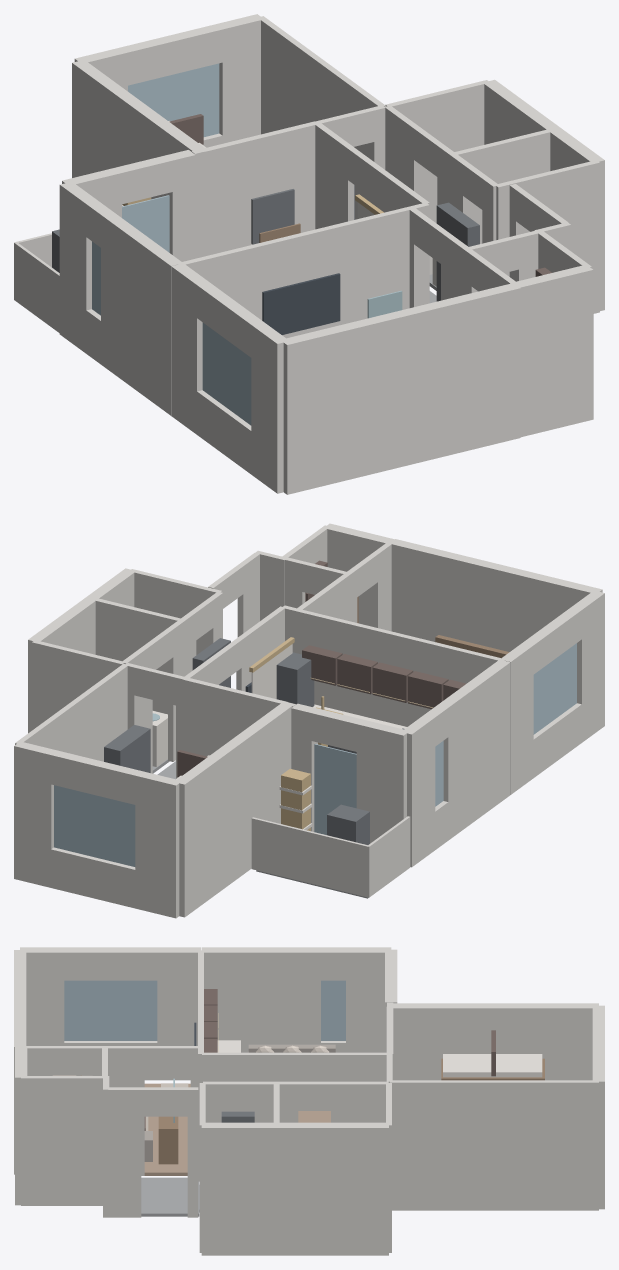
The model's file is kvartira-warm-school-daily.glb.
3 renders of one model, top to bottom at view 1: azimuth 30°, elevation 25°; view 2: azimuth 150°, elevation 25°; view 3: azimuth 270°, elevation 25°, orthographic. The views are drawn at different scales.
Visible parts, largest first — view 1: wall_w_l_s_166_612_0.0, wall_w_dividing_168_644_0.0, wall_w_closet_s_612_752_0.0, wall_w_k_w_559_791_0.0, wall_w_top_s_426_660_0.0, wall_w_top_w_20_423_0.0, wall_w_top_e_20_425_0.0, wall_w_wc_s_777_971_0.0, wall_w_l_w_1057_1143_0.0, wall_w_top_n_691_771_0.0, wall_w_bath_n_777_971_0.0, wall_w_k_w_423_511_0.0 (+40 smaller); view 2: wall_w_l_s_166_612_0.0, wall_w_top_w_20_423_0.0, wall_w_dividing_168_644_0.0, wall_w_k_w_559_791_0.0, wall_w_top_n_422_510_0.0, wall_w_log_n_159_409_0.0, wall_w_top_n_691_771_0.0, wall_w_top_e_20_425_0.0, wall_w_top_n_510_691_0.8, wall_w_k_n1_165_266_0.0, wall_w_k_n2_408_643_0.0, wall_w_bath_n_777_971_0.0 (+51 smaller); view 3: wall_w_top_e_20_425_0.0, wall_w_bath_e_427_791_0.0, wall_w_top_w_20_423_0.0, wall_w_k_w_559_791_0.0, wall_w_closet_e_978_1141_0.0, wall_w_l_w_877_1057_0.8, wall_w_entry_e_908_972_0.0, wall_w_l_w_792_877_0.0, wall_w_k_w_423_511_0.0, wall_w_l_w_1057_1143_0.0, wall_w_l_w_877_1057_2.1, wall_w_k_e_625_790_0.0 (+30 smaller).
Part boxes in pixels (<box>): wall_w_l_s_166_612_0.0: <box>281,283,520,494</box>; wall_w_dividing_168_644_0.0: <box>178,202,429,338</box>; wall_w_closet_s_612_752_0.0: <box>516,265,593,437</box>; wall_w_k_w_559_791_0.0: <box>101,212,182,415</box>; wall_w_top_s_426_660_0.0: <box>204,119,327,256</box>; wall_w_top_w_20_423_0.0: <box>72,60,204,199</box>; wall_w_top_e_20_425_0.0: <box>258,16,385,219</box>; wall_w_wc_s_777_971_0.0: <box>495,161,599,313</box>; wall_w_l_w_1057_1143_0.0: <box>251,322,289,493</box>; wall_w_top_n_691_771_0.0: <box>216,14,263,143</box>; wall_w_bath_n_777_971_0.0: <box>385,80,489,223</box>; wall_w_k_w_423_511_0.0: <box>59,183,98,353</box>; wall_w_l_s_166_612_0.0: <box>390,539,602,651</box>; wall_w_top_w_20_423_0.0: <box>174,703,292,917</box>; wall_w_dividing_168_644_0.0: <box>282,605,505,726</box>; wall_w_k_w_559_791_0.0: <box>437,659,510,840</box>; wall_w_top_n_422_510_0.0: <box>135,771,181,918</box>; wall_w_log_n_159_409_0.0: <box>251,817,368,897</box>; wall_w_top_n_691_771_0.0: <box>14,742,56,887</box>; wall_w_top_e_20_425_0.0: <box>15,663,127,761</box>; wall_w_top_n_510_691_0.8: <box>54,785,135,866</box>; wall_w_k_n1_165_266_0.0: <box>356,719,409,843</box>; wall_w_k_n2_408_643_0.0: <box>183,679,295,756</box>; wall_w_bath_n_777_971_0.0: <box>32,641,124,730</box>; wall_w_top_e_20_425_0.0: <box>390,1080,598,1210</box>; wall_w_bath_e_427_791_0.0: <box>201,1122,388,1255</box>; wall_w_top_w_20_423_0.0: <box>391,1003,598,1080</box>; wall_w_k_w_559_791_0.0: <box>201,947,320,1052</box>; wall_w_closet_e_978_1141_0.0: <box>21,1076,104,1205</box>; wall_w_l_w_877_1057_0.8: <box>64,980,157,1040</box>; wall_w_entry_e_908_972_0.0: <box>108,1087,141,1217</box>; wall_w_l_w_792_877_0.0: <box>157,947,200,1080</box>; wall_w_k_w_423_511_0.0: <box>346,947,391,1052</box>; wall_w_l_w_1057_1143_0.0: <box>20,947,64,1045</box>; wall_w_l_w_877_1057_2.1: <box>64,947,157,980</box>; wall_w_k_e_625_790_0.0: <box>202,1052,286,1111</box>.
Bounding box in the file's own units: 8.24 × 2.77 × 11.41.
